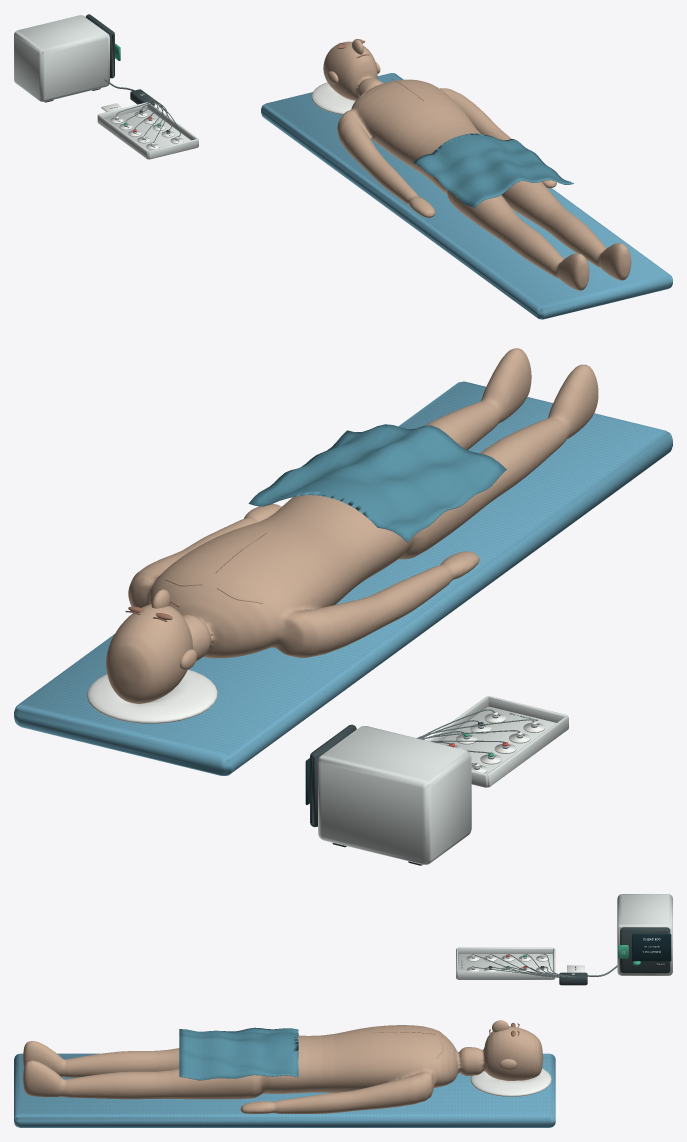
File: ecg-training.glb
3 views of the same model, one above another, from view 1: azimuth 30°, elevation 25°; view 2: azimuth 150°, elevation 25°; view 3: azimuth 270°, elevation 25° (orthographic). The views are drawn at different scales.
Visible parts, largest first — view 1: Trainer | continuous silicone anatomy, Linen | fitted mattress cover, ECG | instrument body, Trainer | modesty drape, ECG | tray base, Linen | compressed head support, ECG | tray lip x -0.955, ECG | tray lip z -0.301; view 2: Trainer | continuous silicone anatomy, Linen | fitted mattress cover, ECG | instrument body, Trainer | modesty drape, Linen | compressed head support, ECG | tray base, ECG | tray lip x -0.955, ECG | protective rim, ECG | tray lip z -0.301; view 3: Trainer | continuous silicone anatomy, Linen | fitted mattress cover, Trainer | modesty drape, ECG | instrument body, Linen | compressed head support, ECG | protective rim, ECG | screen, ECG | tray base, ECG | tray lip x -0.749, ECG | tray lip x -0.955, ECG | lead hub.
Boxes of the visible parts, bbox=[...] form: Trainer | continuous silicone anatomy: bbox=[323, 41, 631, 290]; Linen | fitted mattress cover: bbox=[261, 73, 672, 319]; ECG | instrument body: bbox=[14, 15, 109, 101]; Trainer | modesty drape: bbox=[412, 133, 573, 207]; ECG | tray base: bbox=[105, 109, 190, 150]; Linen | compressed head support: bbox=[311, 82, 355, 114]; ECG | tray lip x -0.955: bbox=[97, 114, 148, 159]; ECG | tray lip z -0.301: bbox=[148, 139, 198, 159]; Trainer | continuous silicone anatomy: bbox=[106, 348, 598, 703]; Linen | fitted mattress cover: bbox=[14, 381, 672, 775]; ECG | instrument body: bbox=[318, 726, 471, 864]; Trainer | modesty drape: bbox=[248, 424, 506, 542]; Linen | compressed head support: bbox=[86, 669, 217, 723]; ECG | tray base: bbox=[438, 706, 556, 787]; ECG | tray lip x -0.955: bbox=[487, 716, 568, 787]; ECG | protective rim: bbox=[310, 724, 356, 827]; ECG | tray lip z -0.301: bbox=[488, 696, 567, 722]; Trainer | continuous silicone anatomy: bbox=[22, 1025, 543, 1113]; Linen | fitted mattress cover: bbox=[14, 1053, 555, 1127]; Trainer | modesty drape: bbox=[179, 1027, 298, 1080]; ECG | instrument body: bbox=[617, 894, 672, 975]; Linen | compressed head support: bbox=[470, 1068, 551, 1096]; ECG | protective rim: bbox=[620, 927, 670, 973]; ECG | screen: bbox=[632, 934, 671, 961]; ECG | tray base: bbox=[458, 954, 552, 971]; ECG | tray lip x -0.749: bbox=[457, 971, 554, 979]; ECG | tray lip x -0.955: bbox=[457, 947, 553, 953]; ECG | lead hub: bbox=[559, 972, 587, 985].
Bounding box in the file's own units: 1.34 × 0.348 × 2.43.
15 materials, 1 textured.
